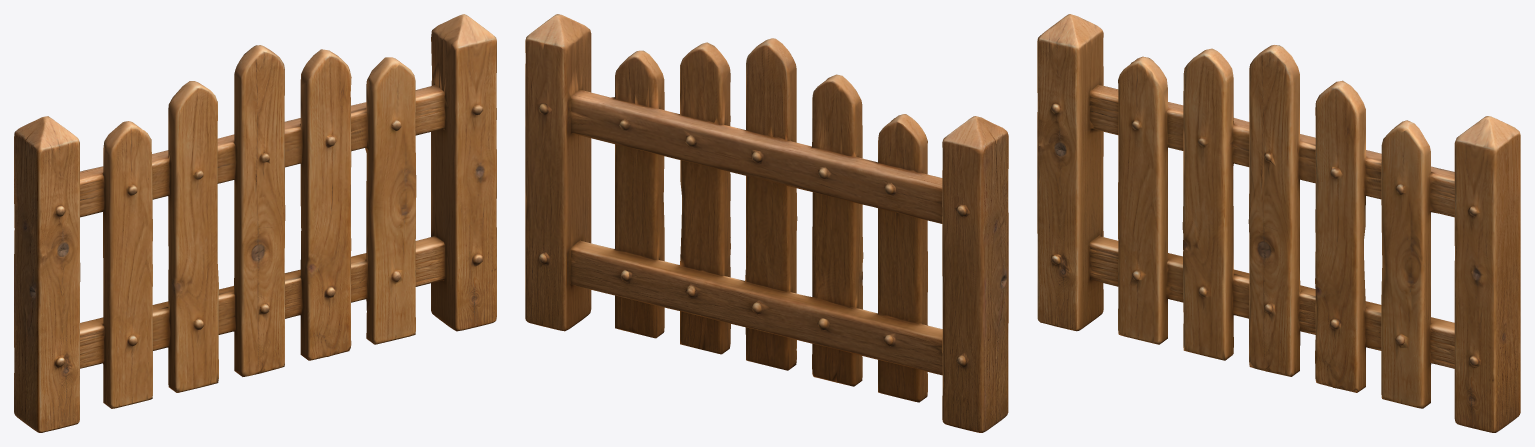
The model's file is tripo_convert_dc25c7df-58fd-4e26-b8d5-b165a52d8138.fbx.
3 renders of one model, left to right at view 1: azimuth 30°, elevation 25°; view 2: azimuth 150°, elevation 25°; view 3: azimuth 330°, elevation 25°, orthographic.
Visible parts, largest first — view 1: tripo_node_dc25c7df; view 2: tripo_node_dc25c7df; view 3: tripo_node_dc25c7df.
Part boxes in pixels (x1=…): tripo_node_dc25c7df: x1=14, y1=14, x2=496, y2=432; tripo_node_dc25c7df: x1=525, y1=14, x2=1008, y2=432; tripo_node_dc25c7df: x1=1037, y1=14, x2=1520, y2=432.
Bounding box in the file's own units: 0.9809 × 0.6655 × 0.1176.
1 material, 1 textured.
